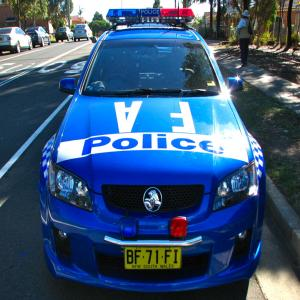Vehicle-registration-plate: (124, 247, 182, 270)
